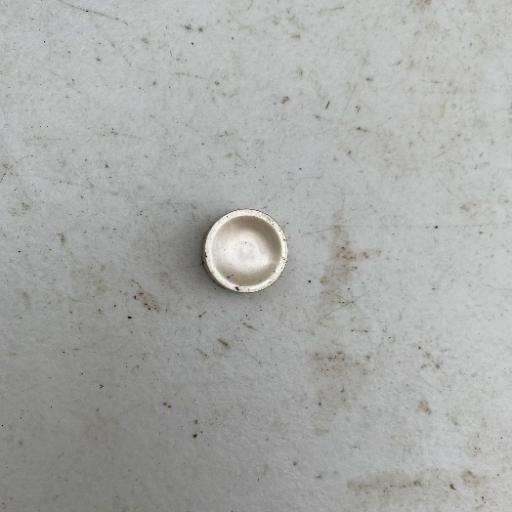Plastic: (200, 206, 290, 295)
